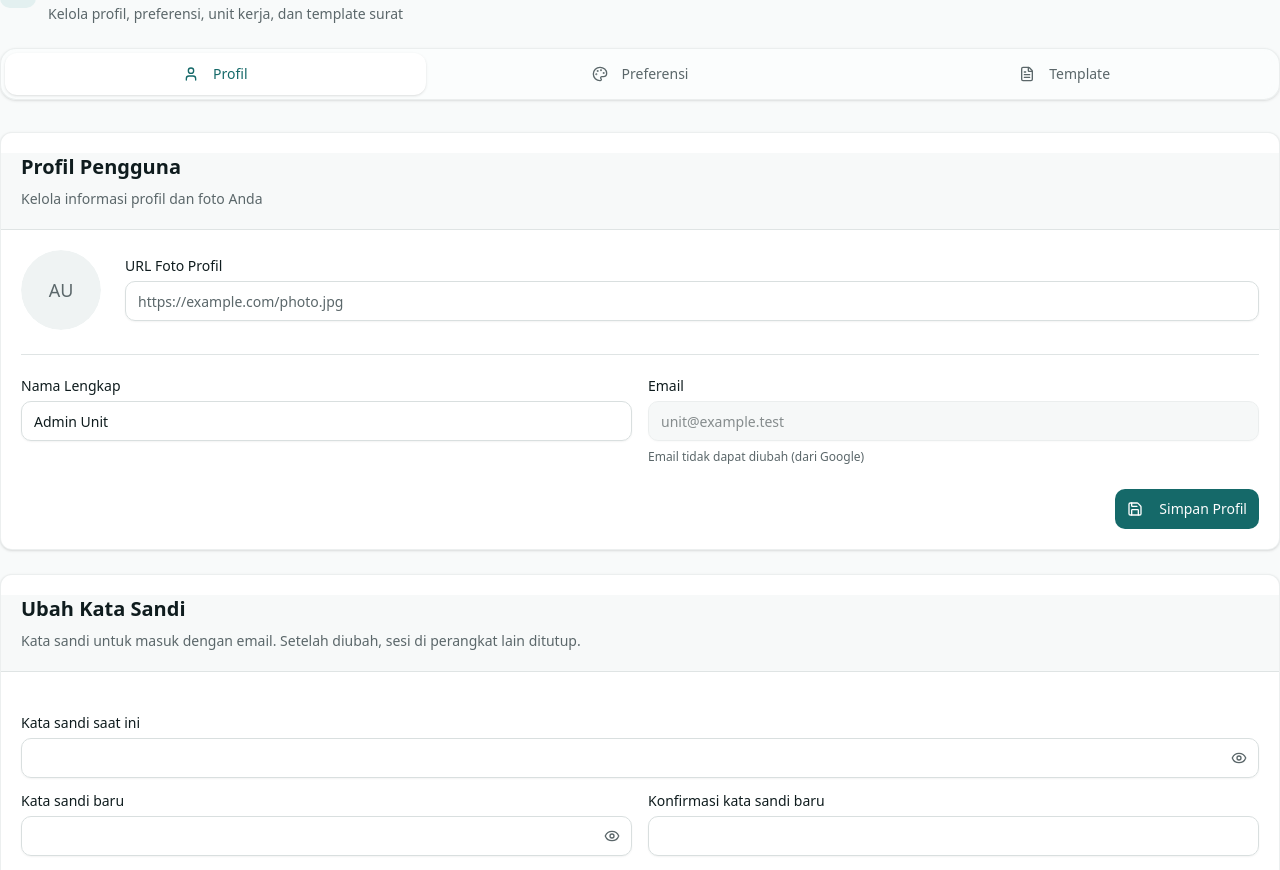
Test: Pengaturan — Ubah Kata Sandi › memeriksa isian sebelum mengirim ({"konfirmasi":"sintetis-lain-01"})
Type "sintetis-lama-01" into the password field labelled "Kata sandi saat ini" at {"x": 640, "y": 758}, box [21,738,1259,778]
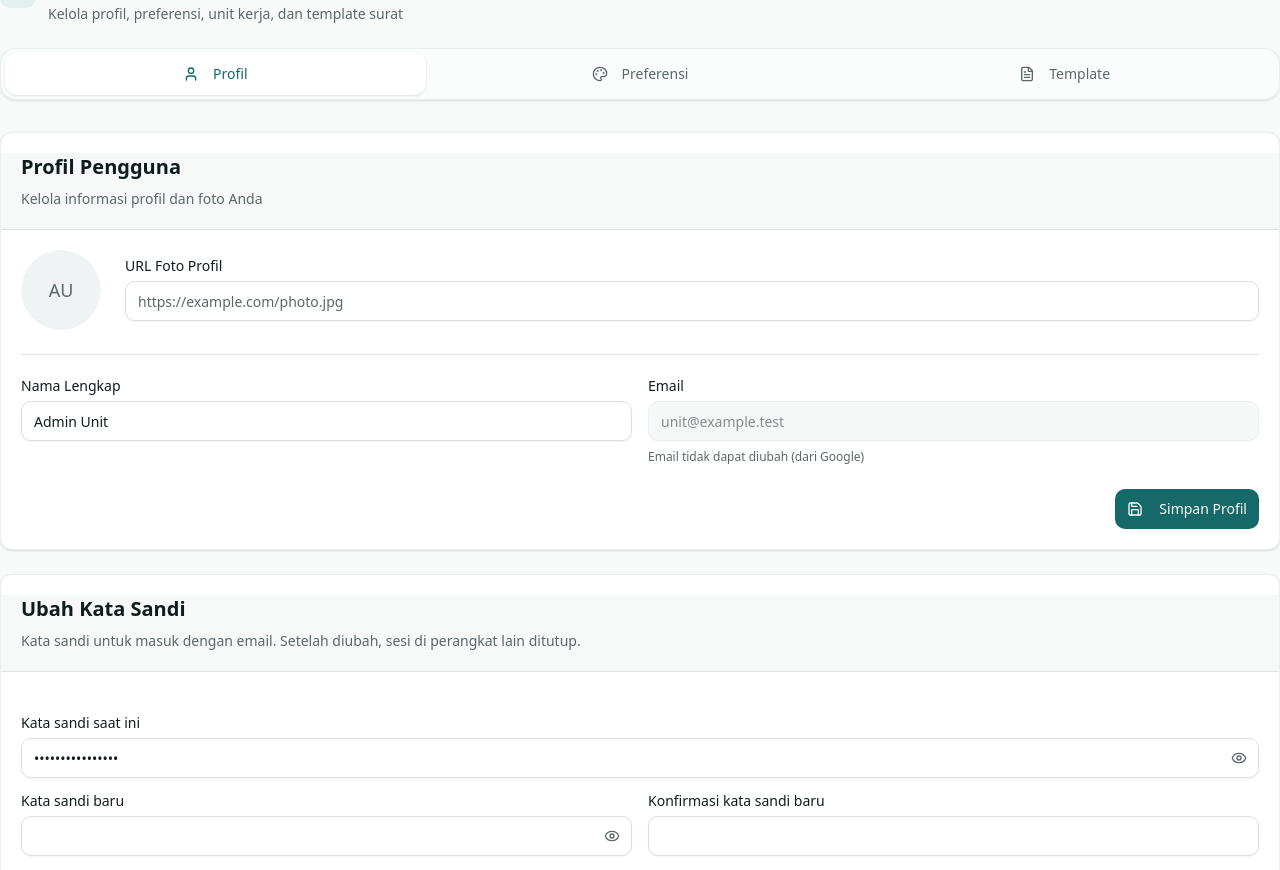
Type "sintetis-baru-01" into the password field labelled "Kata sandi baru" at {"x": 326, "y": 836}, box [21,816,632,856]
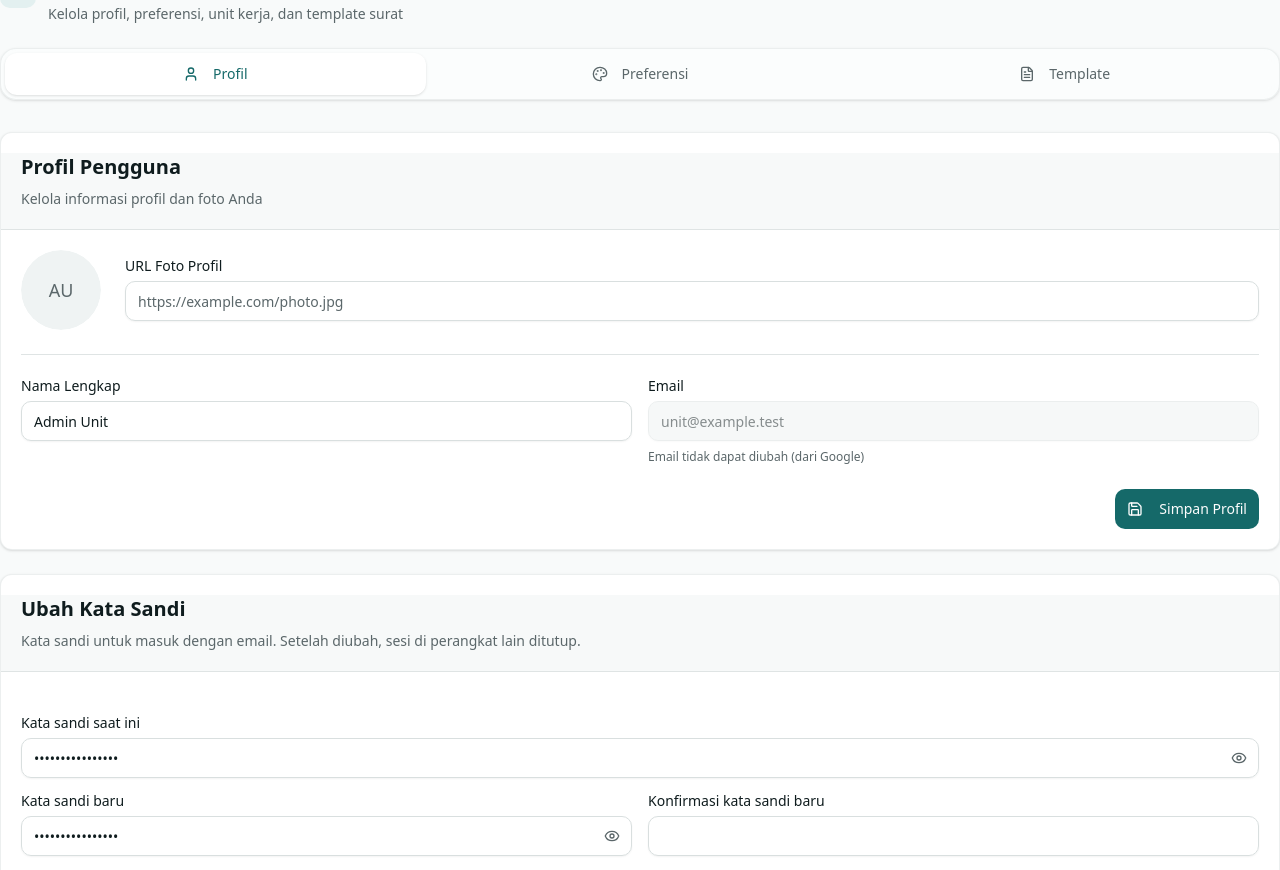
Type "sintetis-lain-01" into the password field labelled "Konfirmasi kata sandi baru" at {"x": 954, "y": 836}, box [648,816,1259,856]
(page scrolled)
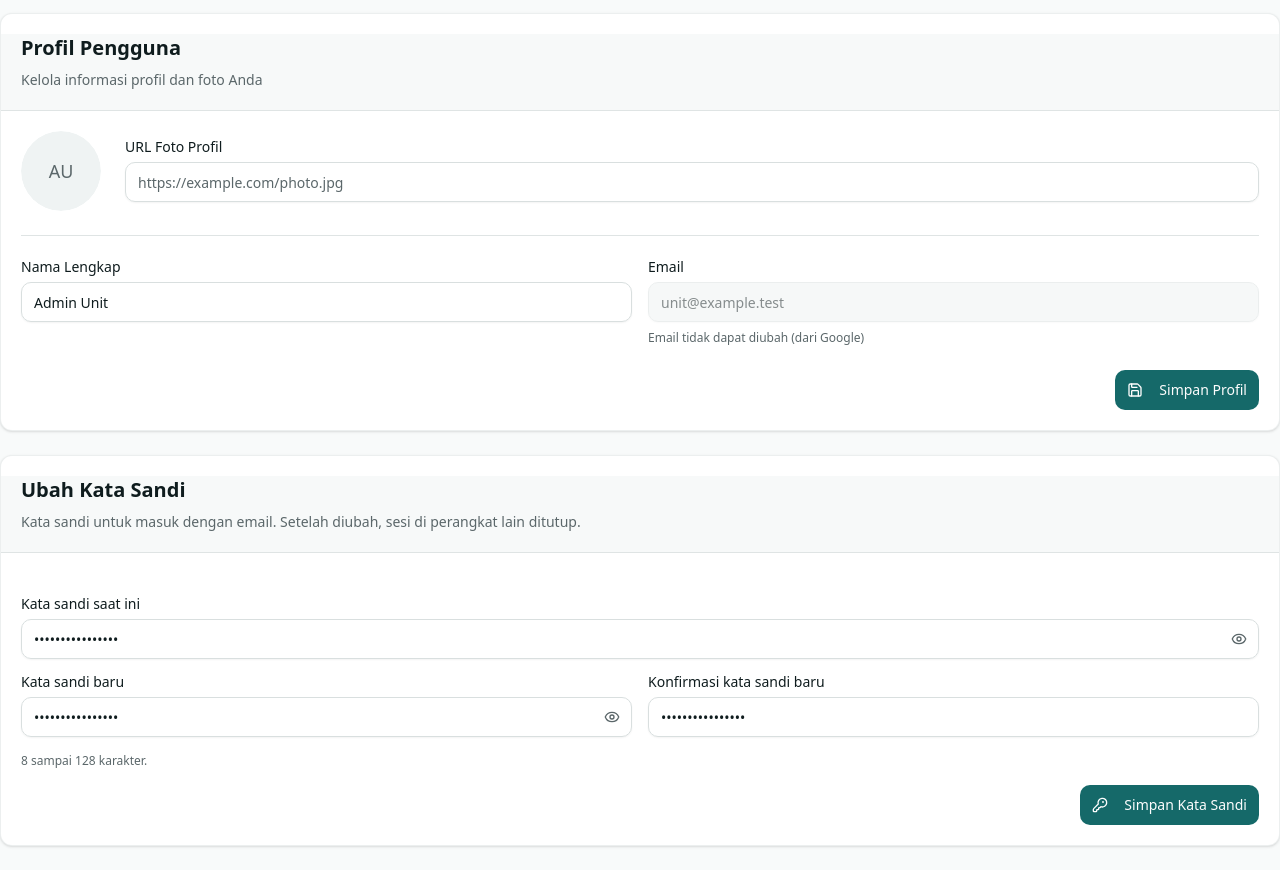
Click the button "Simpan Kata Sandi" at {"x": 1170, "y": 805}, box [1080,785,1259,825]
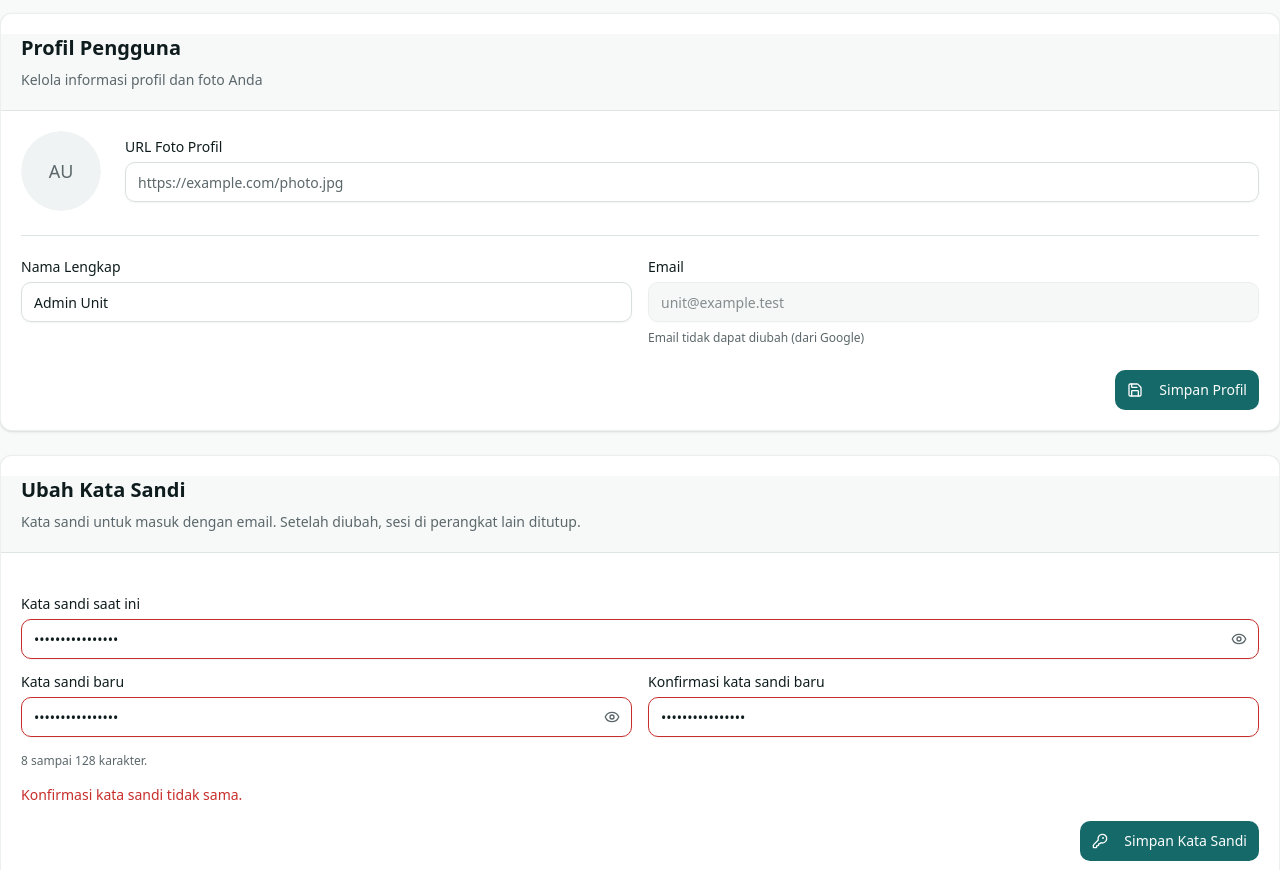
Now the message reads "Konfirmasi kata sandi tidak sama.", box [21,785,242,804]
